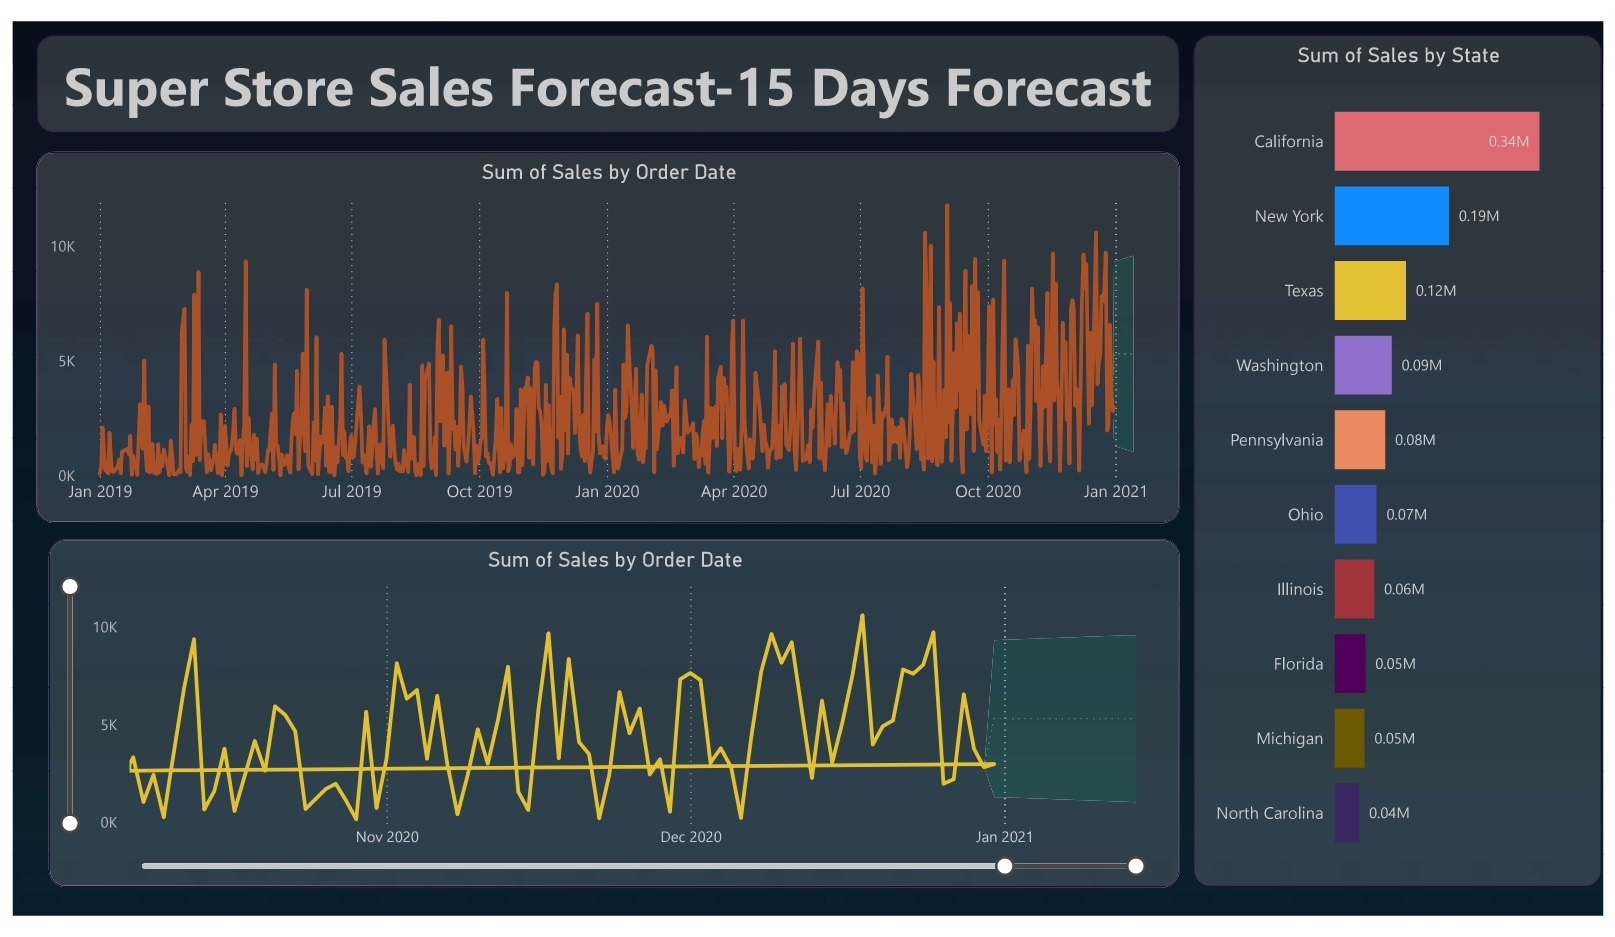

This screenshot's page, from the dashboard's own definition file:
{"tool":"powerbi","page":{"name":"Forecasting","canvas":[1280,720],"ordinal":1},"visuals":[{"type":"lineChart","fields":{"Y":["Sum(SuperStore_Sales_Dataset.Sales)"],"Category":["SuperStore_Sales_Dataset.Order Date"]},"box":[29.4,416.7,909.3,280.4],"z":0},{"type":"lineChart","fields":{"Y":["Sum(SuperStore_Sales_Dataset.Sales)"],"Category":["SuperStore_Sales_Dataset.Order Date"]},"box":[18.6,105.3,920.1,299],"z":1000},{"type":"clusteredBarChart","fields":{"Category":["SuperStore_Sales_Dataset.State"],"Y":["Sum(SuperStore_Sales_Dataset.Sales)"]},"box":[949.6,10.8,329.9,686.2],"z":2000},{"type":"textbox","box":[18.6,10.8,920.1,79],"z":3000}]}

Visuals, with their boxes on the page's 1280x720 design canvas (x1, y1, x2, y2). These are canvas units, not pixel positions in the 1615x937 screenshot, which may show the page scaled, cropped or inside an application window:
lineChart - Sum(SuperStore_Sales_Dataset.Sales) x SuperStore_Sales_Dataset.Order Date: 29,417,939,697
lineChart - Sum(SuperStore_Sales_Dataset.Sales) x SuperStore_Sales_Dataset.Order Date: 19,105,939,404
clusteredBarChart - SuperStore_Sales_Dataset.State x Sum(SuperStore_Sales_Dataset.Sales): 950,11,1280,697
textbox: 19,11,939,90
